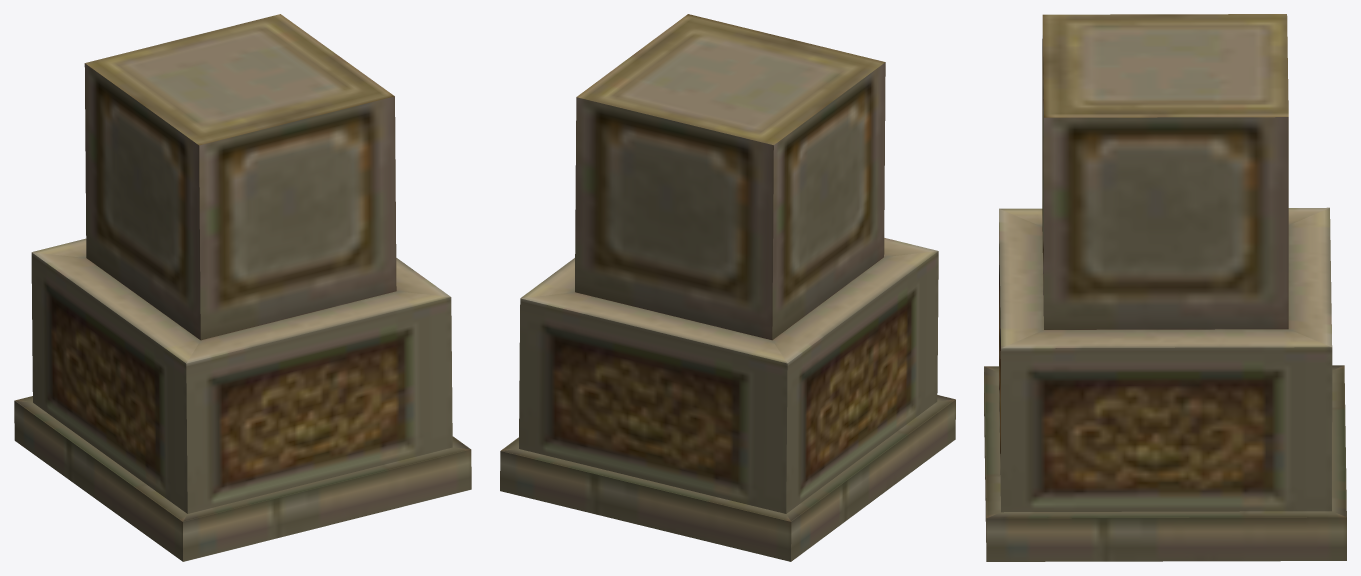
File: Yland1_bj_16 Yland1.FBX
3 renders of one model, left to right at view 1: azimuth 30°, elevation 25°; view 2: azimuth 150°, elevation 25°; view 3: azimuth 270°, elevation 25°, orthographic. The views are drawn at different scales.
Parts seen in each view (by area): view 1: Yland1_bj_16 Yland1; view 2: Yland1_bj_16 Yland1; view 3: Yland1_bj_16 Yland1.
Part boxes in pixels (bbox=[...]): Yland1_bj_16 Yland1: bbox=[14, 14, 471, 561]; Yland1_bj_16 Yland1: bbox=[500, 14, 955, 561]; Yland1_bj_16 Yland1: bbox=[984, 14, 1346, 561].
Size of the model in its own units: 1.85 by 2.34 by 1.84.
